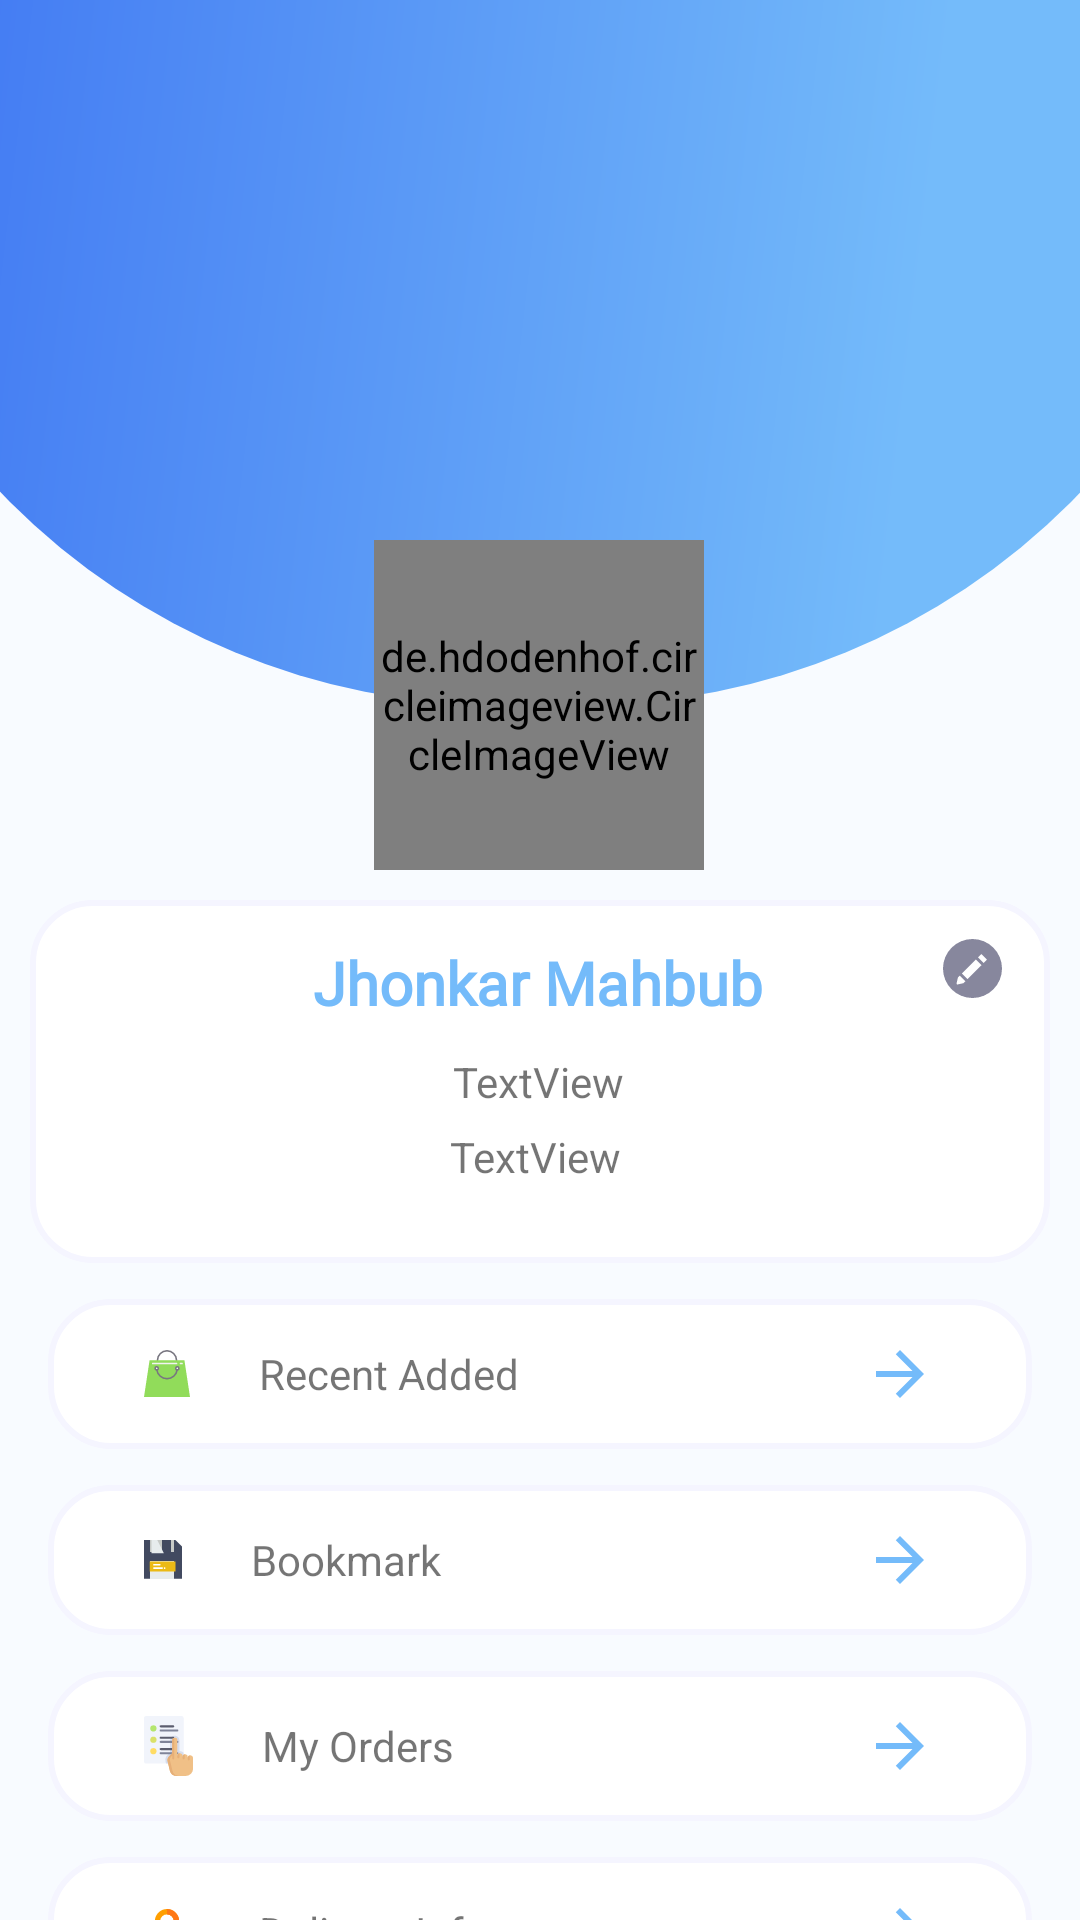

Icon click points for this 1080px x 1920px phone screenshot, format (x,y):
edit: (972,968)
